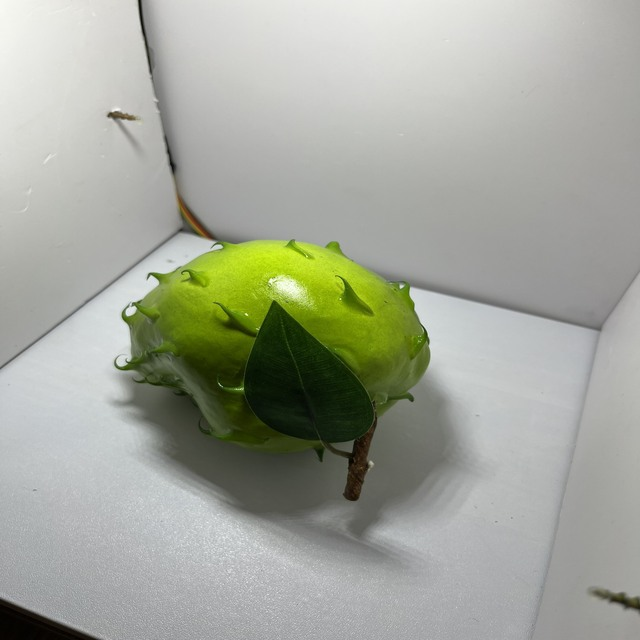Man cau: (112, 226, 443, 463)
